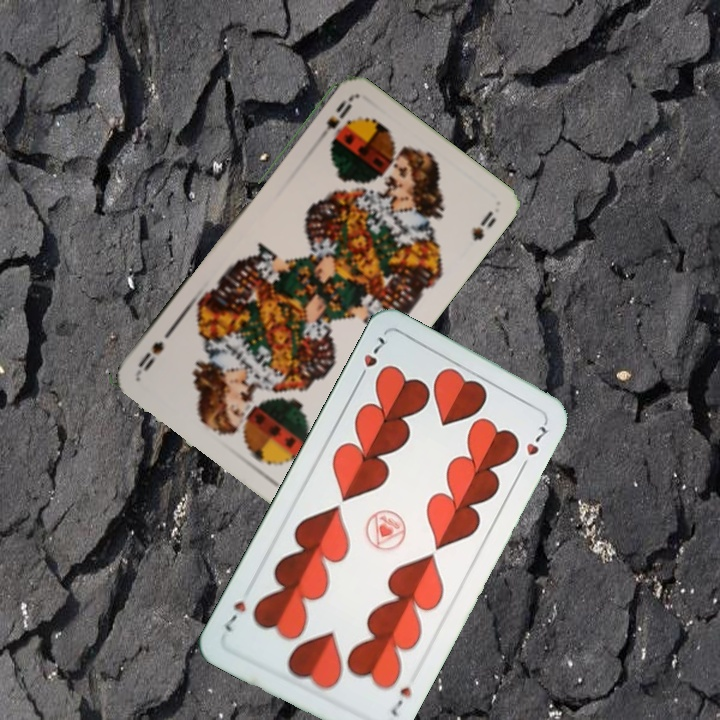H7: (353, 332, 389, 385), (386, 682, 415, 719)
SO: (312, 95, 355, 147)
